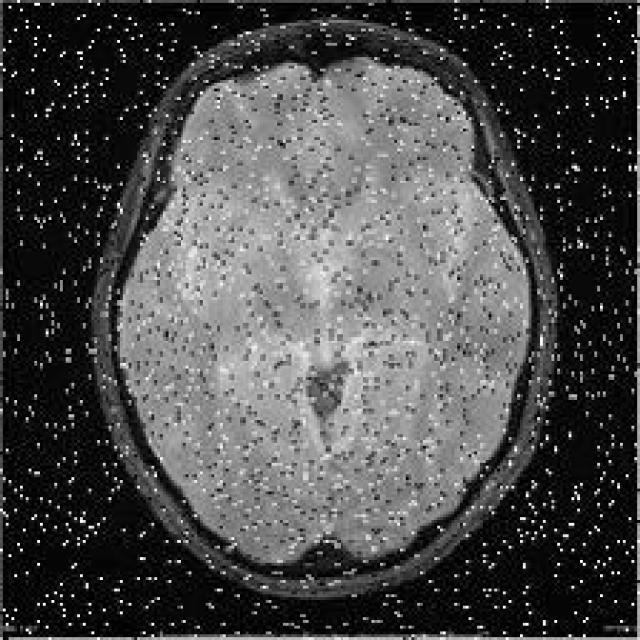no_tumor: (94, 16, 563, 615)
